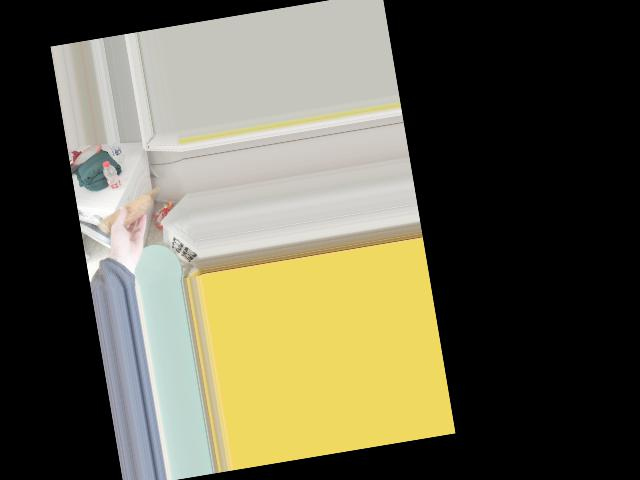sweet_potato: (98, 193, 149, 233)
